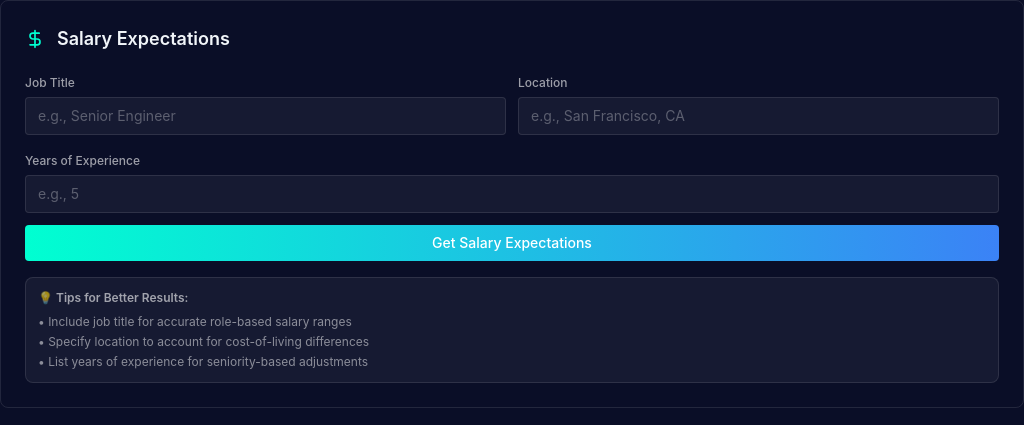
it: SalaryExpectations Component › shows loading state while fetching
Click the button "Get Salary Expectations" at point(512, 243), box [25, 225, 999, 261]
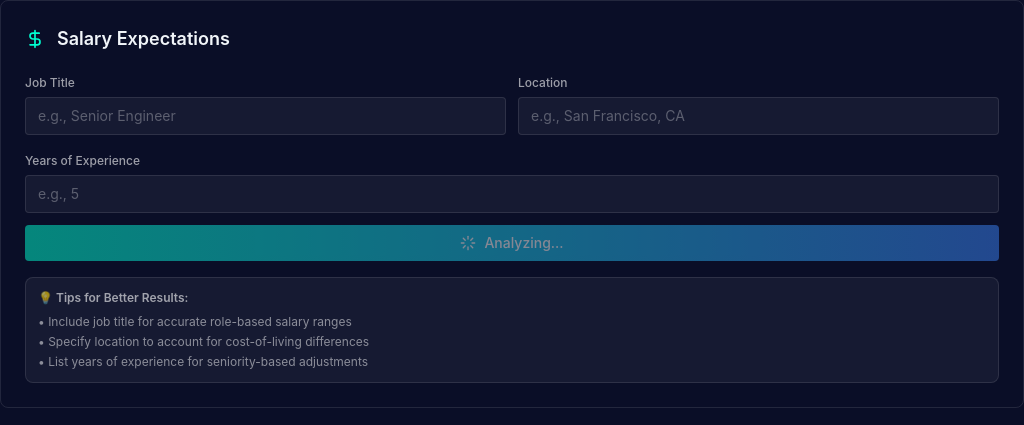
Expected: the text "Analyzing..." is shown, [460, 234, 564, 251]
